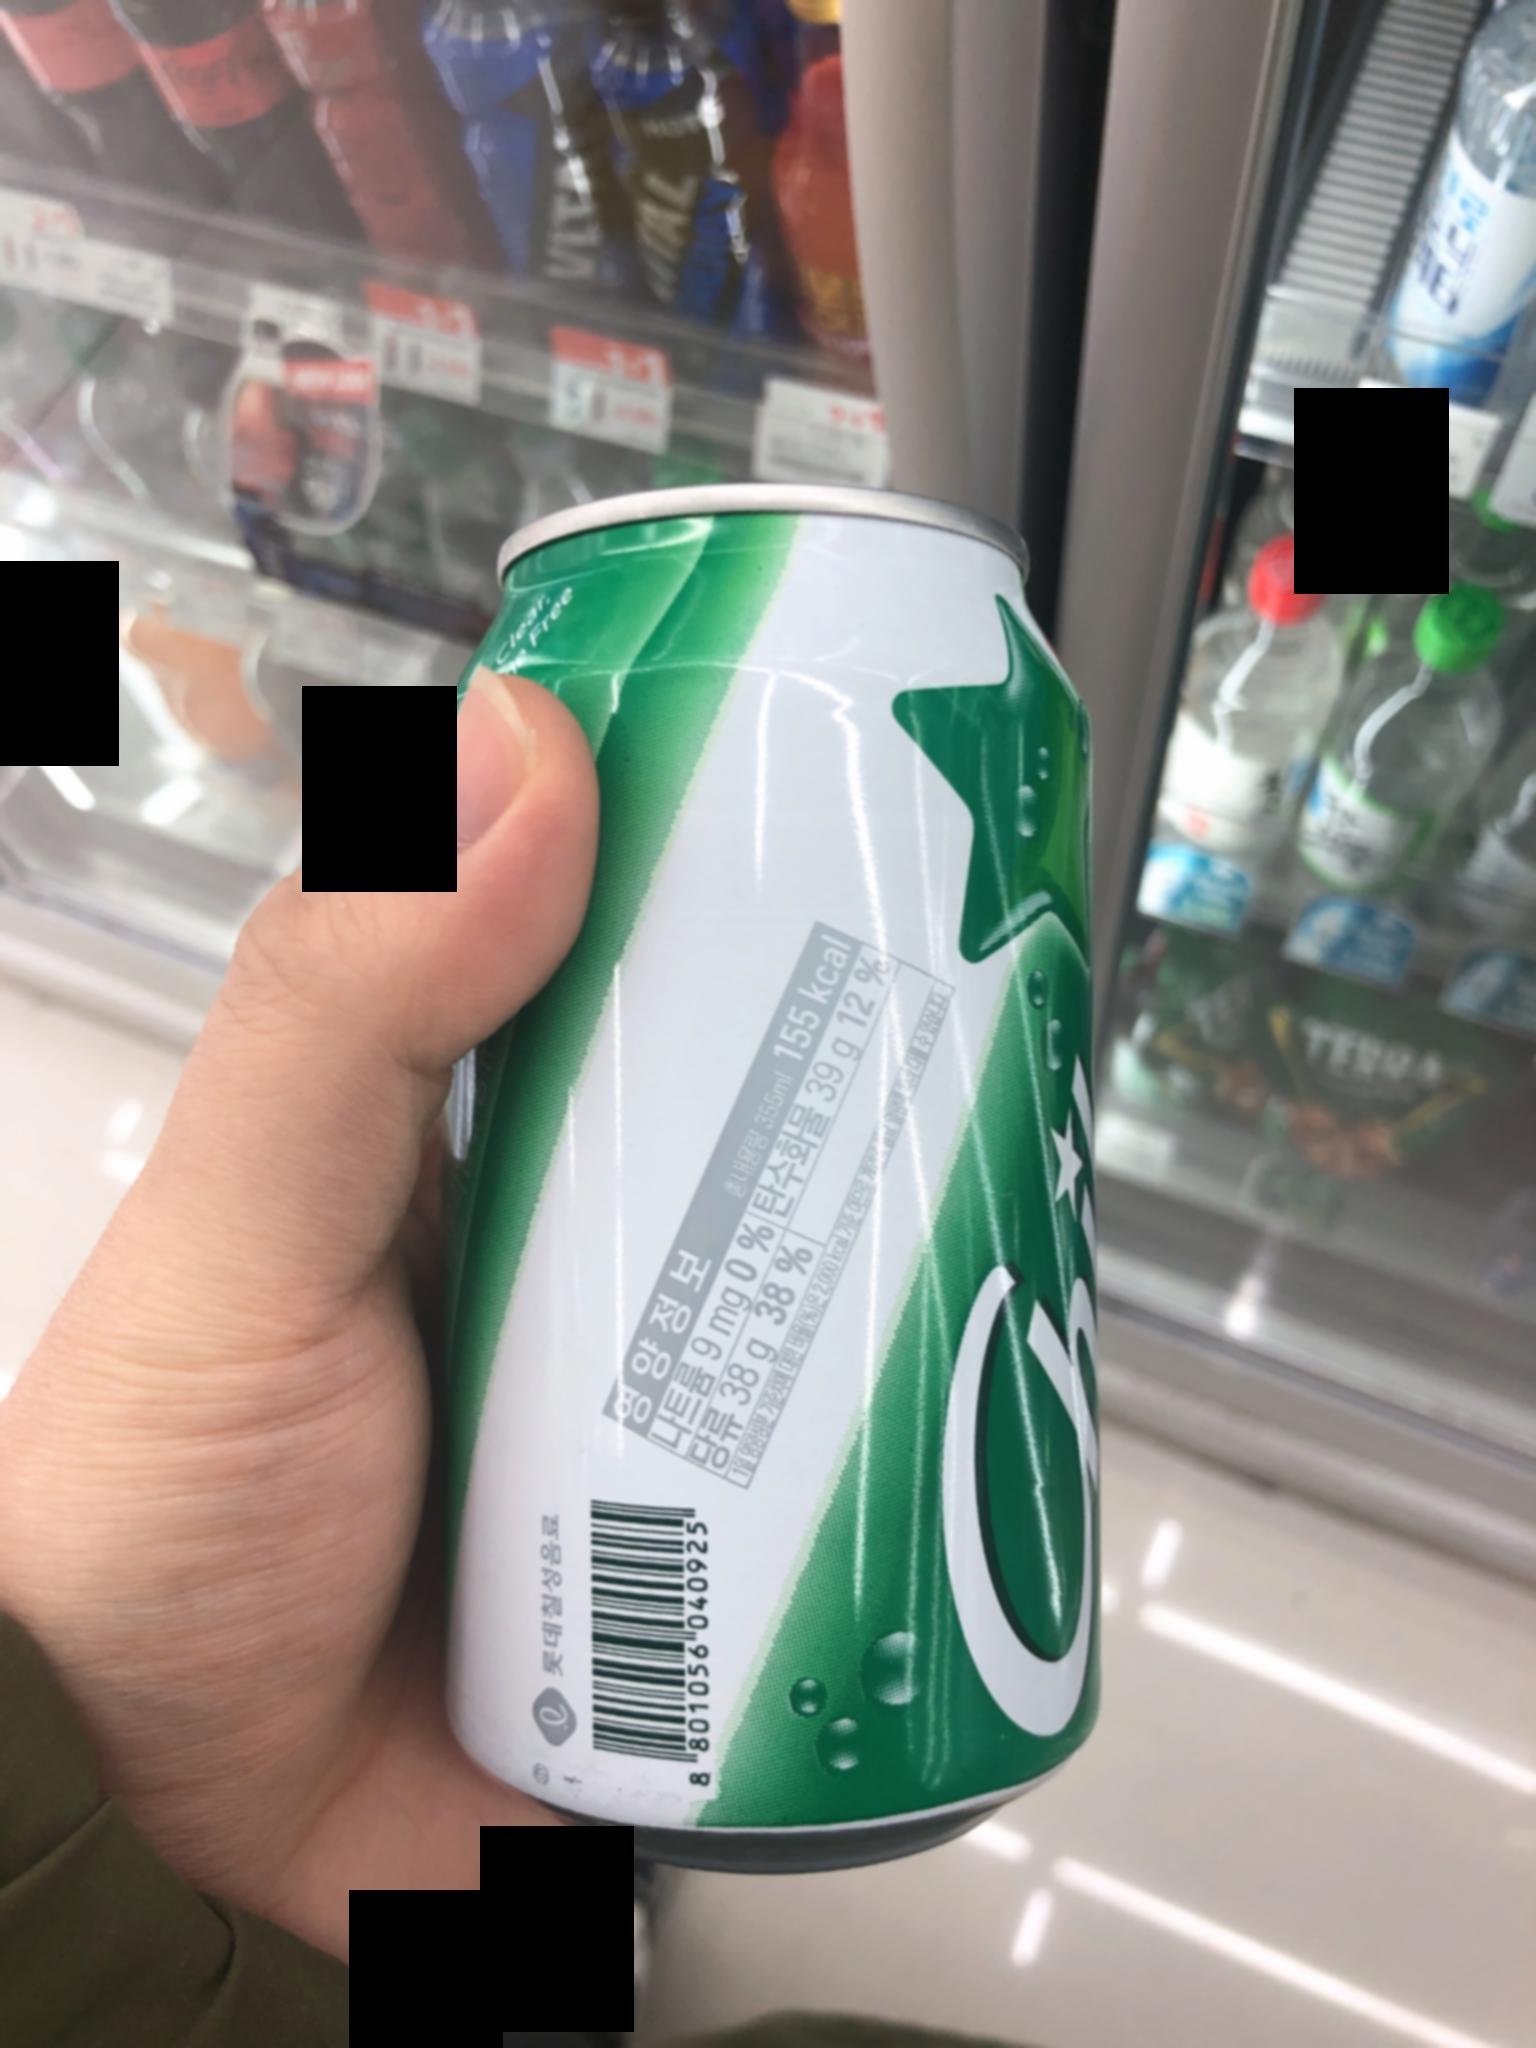chilsungcider: (386, 376, 1158, 1922)
